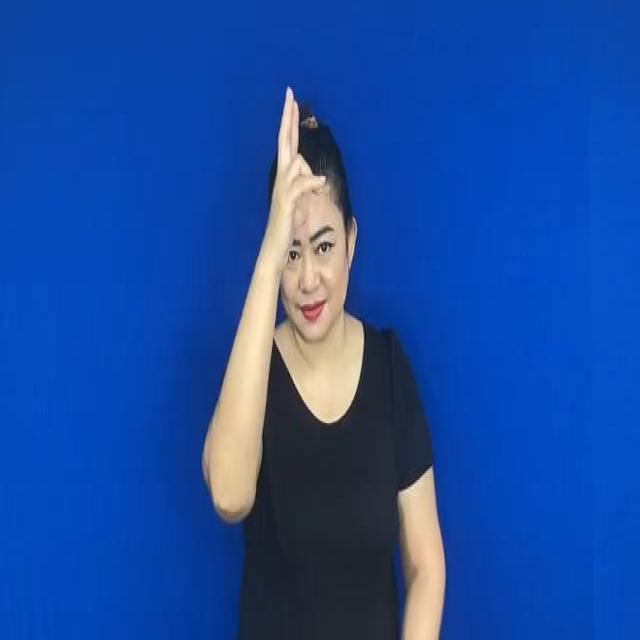chicken: (266, 84, 326, 256)
